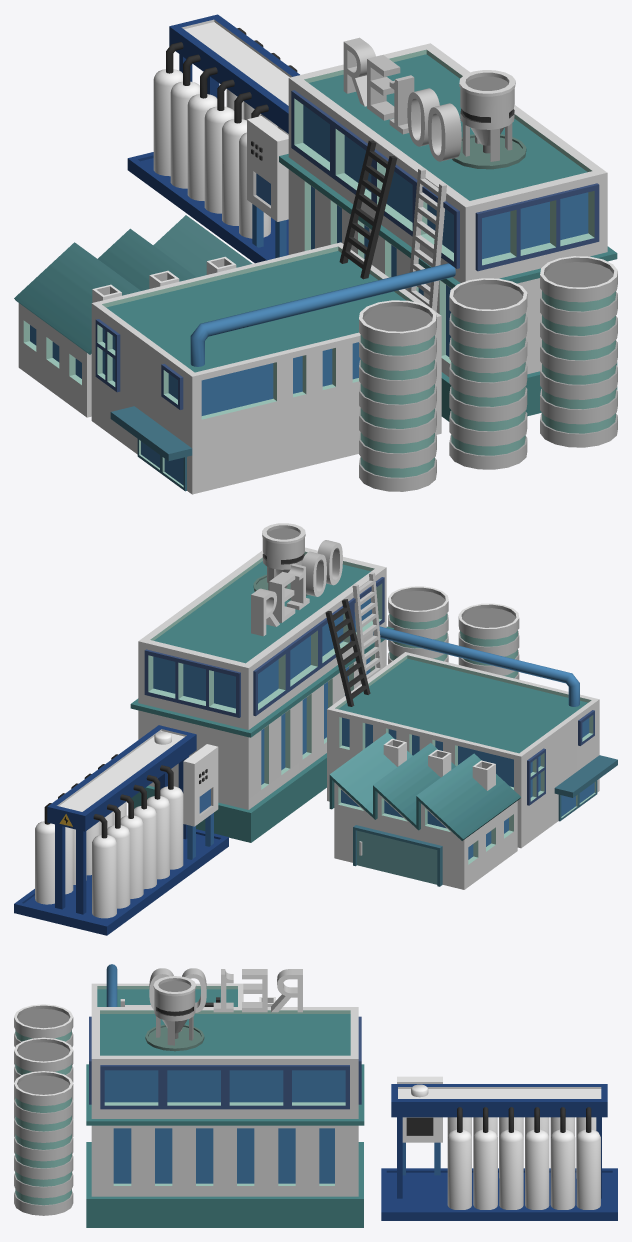
The picture shows the model from 3 angles, top to bottom: view 1: azimuth 30°, elevation 25°; view 2: azimuth 150°, elevation 25°; view 3: azimuth 270°, elevation 25°; orthographic projection. The views are drawn at different scales.
Parts seen in each view (by area): view 1: 5) RE100 클러스터, Object142; view 2: 5) RE100 클러스터, Object142; view 3: 5) RE100 클러스터, Object142.
Boxes of the visible parts, bbox=[...] form: 5) RE100 클러스터: bbox=[14, 14, 617, 494]; Object142: bbox=[343, 37, 461, 161]; 5) RE100 클러스터: bbox=[14, 523, 617, 935]; Object142: bbox=[251, 540, 342, 636]; 5) RE100 클러스터: bbox=[14, 964, 617, 1227]; Object142: bbox=[149, 968, 302, 1012].
Bounding box in the file's own units: 217 × 133 × 337.
